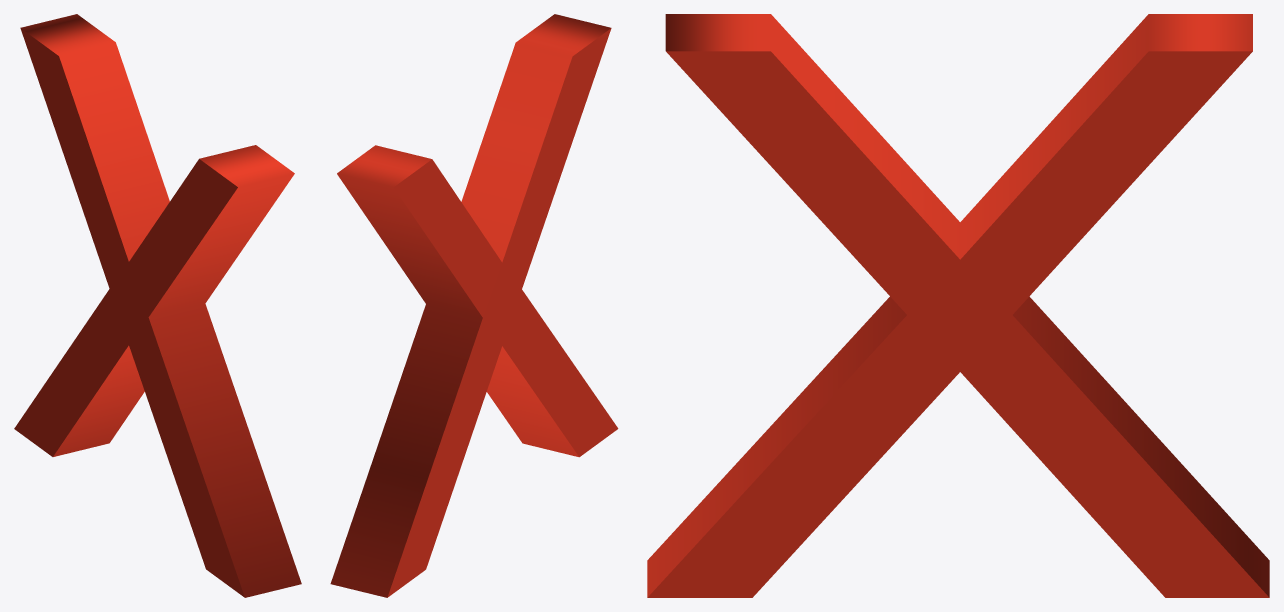
Rendered from letterX.glb.
3 views of the same model, side by side, from view 1: azimuth 30°, elevation 25°; view 2: azimuth 150°, elevation 25°; view 3: azimuth 270°, elevation 25° (orthographic). The views are drawn at different scales.
Parts seen in each view (by area): view 1: Text.001; view 2: Text.001; view 3: Text.001.
Boxes of the visible parts, x1,y1,x2,y2 form: Text.001: (14,14,301,597); Text.001: (330,14,618,597); Text.001: (647,14,1269,597).
Size of the model in its own units: 0.1 by 0.682 by 0.704.
